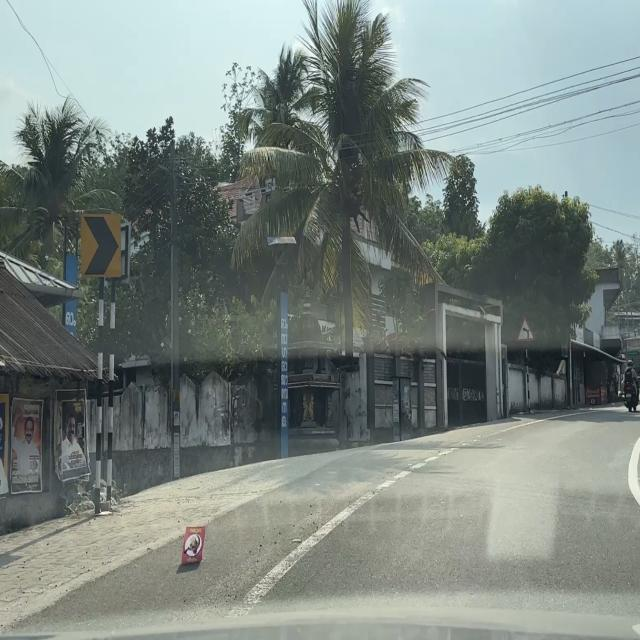LEFT_TURN_AHEAD: (516, 314, 534, 342)
TURN_RIGHT: (78, 209, 123, 279)
